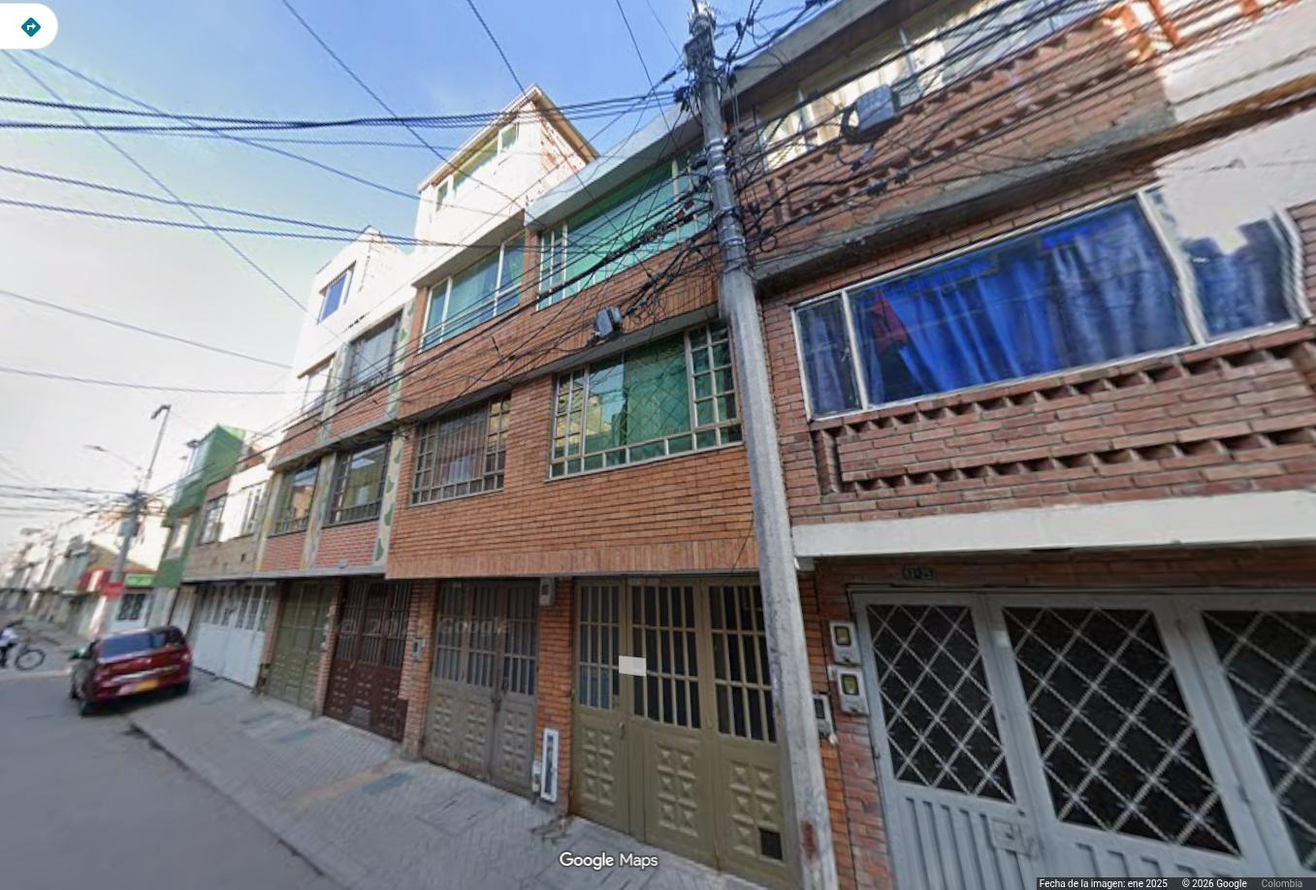casa: (733, 0, 1315, 889), (258, 87, 792, 886)
poste: (688, 2, 837, 889), (84, 404, 172, 631)
